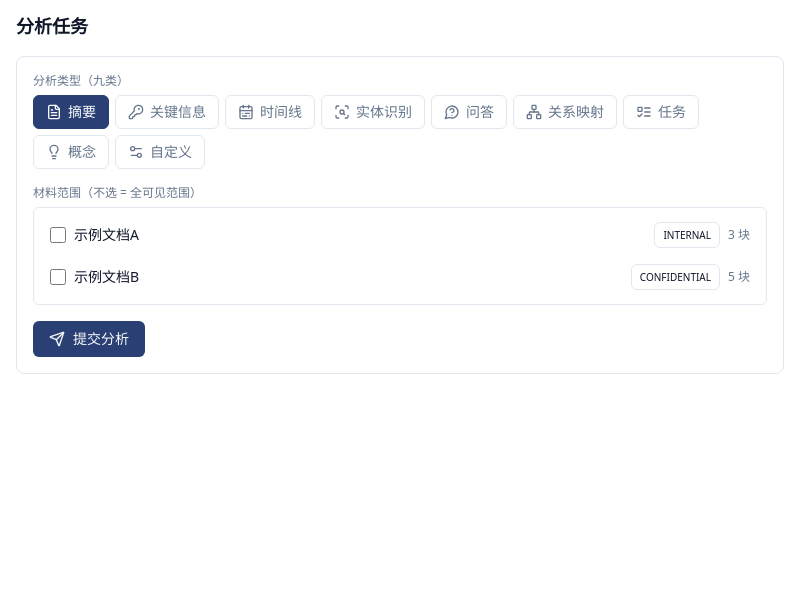
Scenario: custom 自定义表单（Task 23） › 选中自定义：指令输入 + 可选 schema + 「指令将发给 LLM，勿含敏感信息」提示
Expected: the checkbox labelled "示例文档A INTERNAL 3 块" is shown, [50,227,66,243]
Step 1. Click the button "自定义" → (160, 152), box [115,135,205,169]
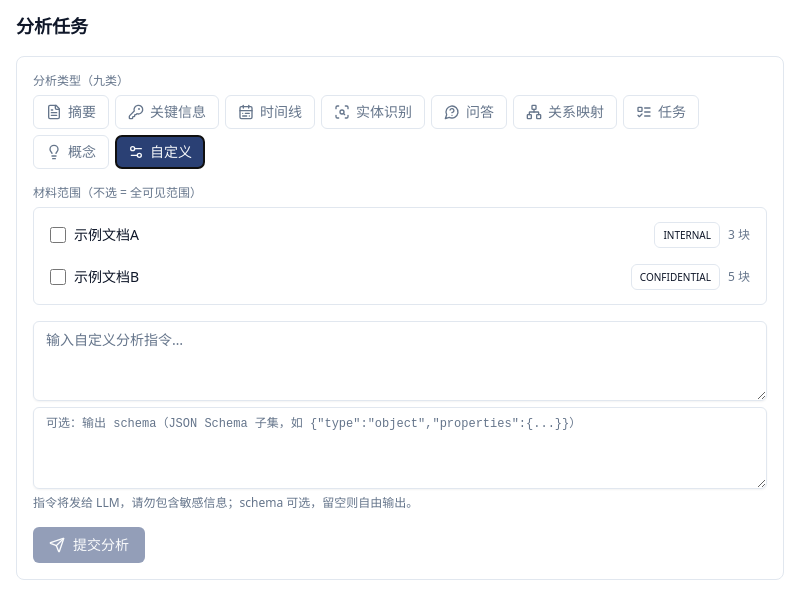
Now the text box with placeholder "输入自定义分析指令…" is shown, box [33,321,767,401]
Now the text box with placeholder "可选：输出 schema" is shown, box [33,407,767,489]
Now the text "指令将发给 LLM，请勿包含敏感信息；schema 可选，留空则自由输出。" is shown, box [33,494,418,511]
